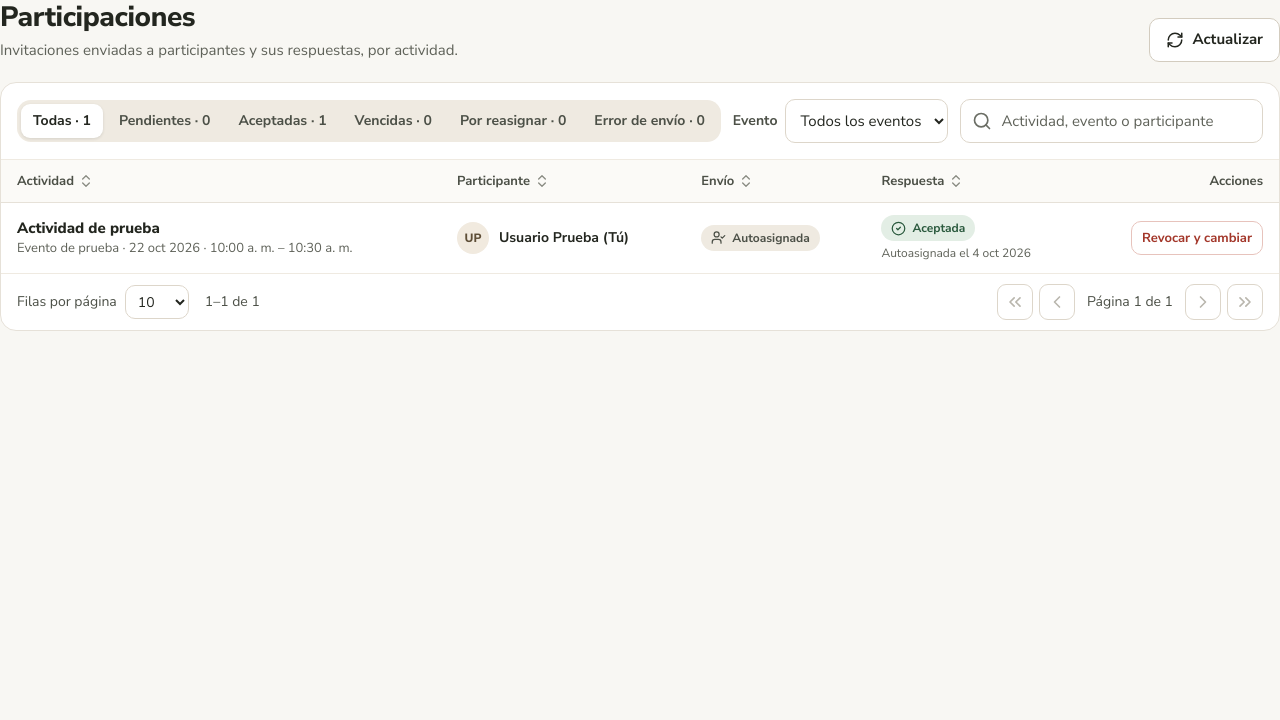
Test: El administrador como participante › dejar la actividad propia no avisa de ninguna notificación
The image size is (1280, 720).
Click the button with aria-label "Revocar confirmación" at (1197, 238), box [1131,221,1263,255]
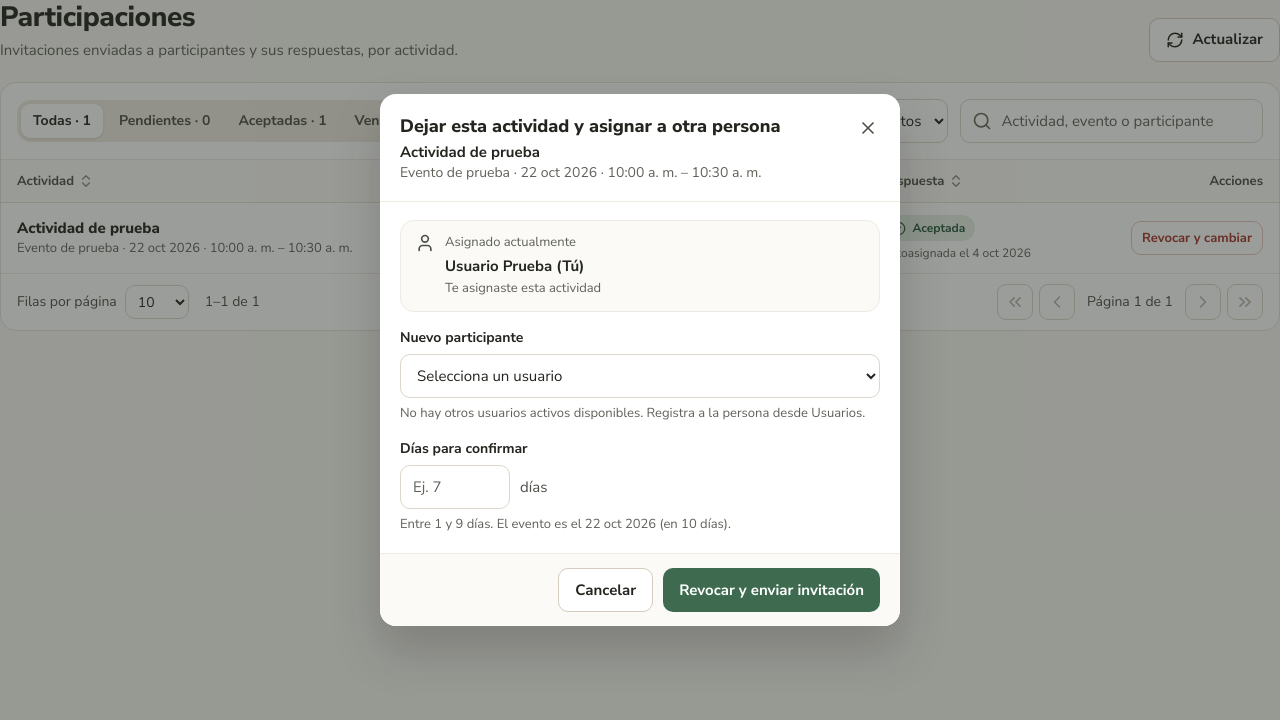
Check: the text "Usuario Prueba (Tú)" is shown, box [445,255,601,278]
Check: the text "Te asignaste esta actividad" is shown, box [445,280,601,299]
